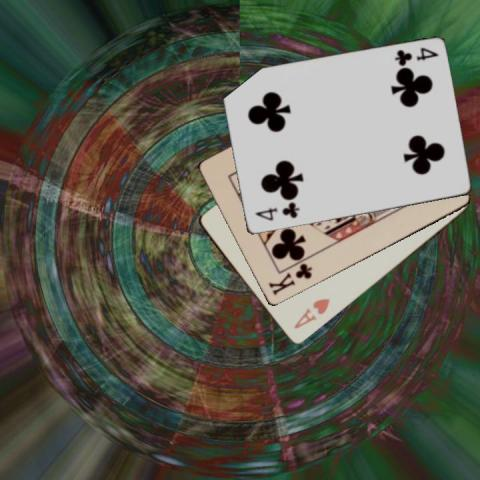4c: (251, 200, 301, 223), (391, 45, 440, 67)
Ah: (291, 295, 332, 331)
Kc: (266, 262, 314, 298)
